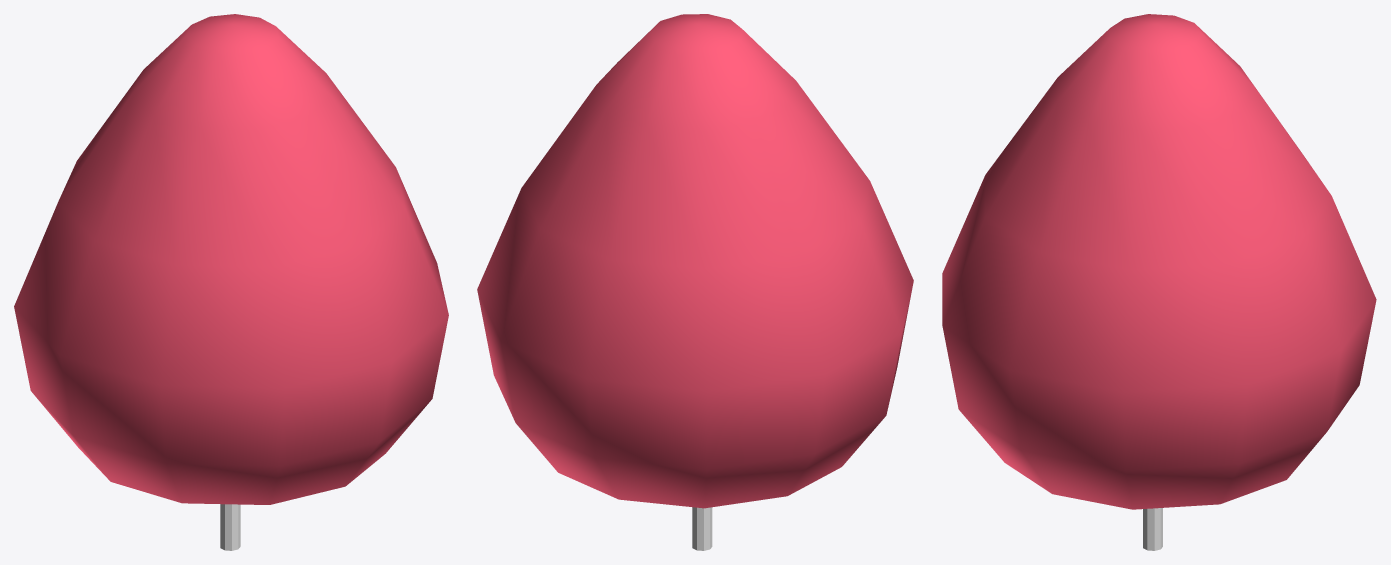
Rendered from 020_Candy_Tree_041.fbx.
The picture shows the model from 3 angles, left to right: view 1: azimuth 30°, elevation 25°; view 2: azimuth 150°, elevation 25°; view 3: azimuth 270°, elevation 25°; orthographic projection.
Visible parts, largest first — view 1: Sphere.069, Cylinder.055; view 2: Sphere.069, Cylinder.055; view 3: Sphere.069, Cylinder.055.
Boxes of the visible parts, left/top/right/bottom form: Sphere.069: left=14, top=14, right=448, bottom=504; Cylinder.055: left=220, top=504, right=240, bottom=550; Sphere.069: left=477, top=14, right=913, bottom=508; Cylinder.055: left=692, top=507, right=712, bottom=550; Sphere.069: left=942, top=14, right=1376, bottom=509; Cylinder.055: left=1143, top=508, right=1162, bottom=550.
Bounding box in the file's own units: 119 × 157 × 118.
